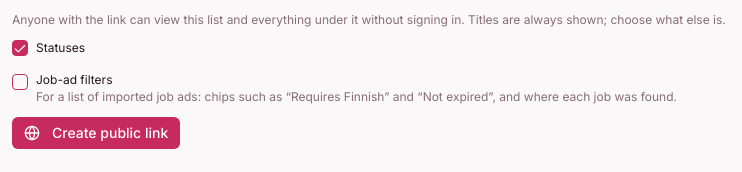
Scenario: job-ad filters on a link's page › are off unless the target has them, and are switched through their own RPC
Click the checkbox named "Job-ad filters" next to "Job-ad filters". click: (20, 82)
box: [12, 74, 28, 90]
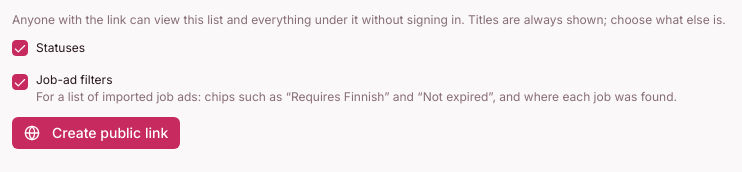
expect the checkbox named "Job-ad filters" next to "Job-ad filters" has attribute data-state="checked": met, box [12, 74, 28, 90]
